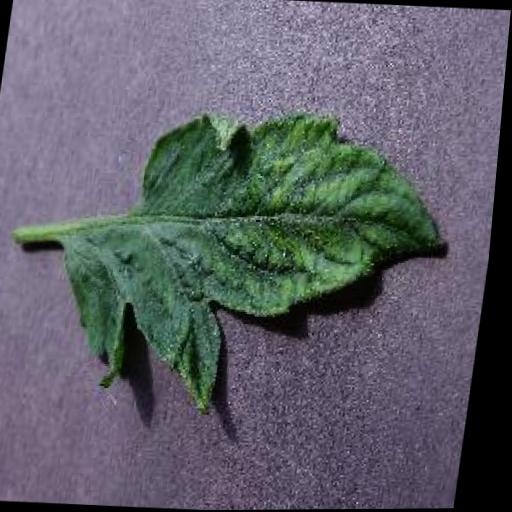Mosaic Virus: (46, 105, 475, 433)
